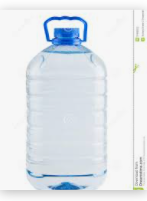Bottle: (24, 16, 109, 190)
